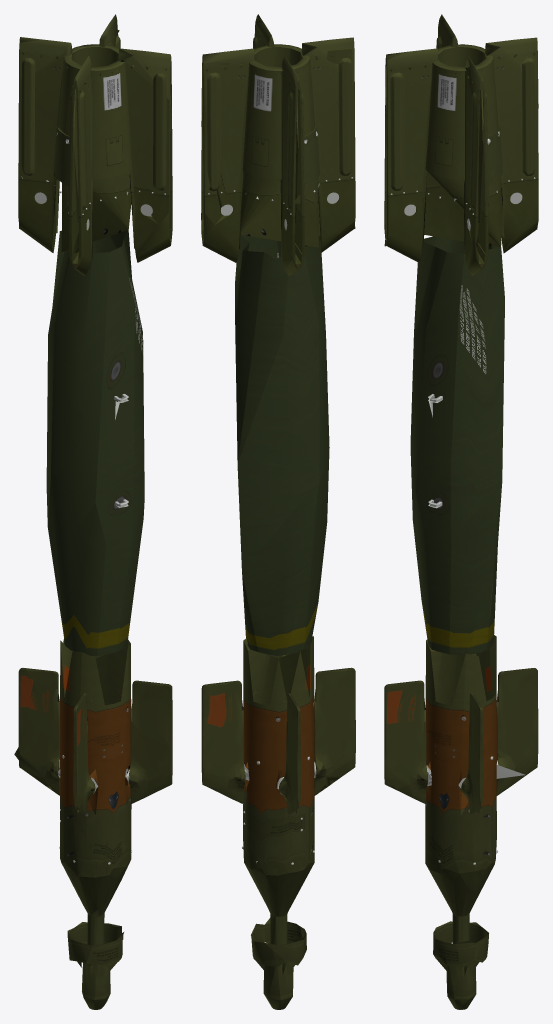
The model's file is GBU-12-reduced.obj.
3 views of the same model, side by side, from view 1: azimuth 30°, elevation 25°; view 2: azimuth 150°, elevation 25°; view 3: azimuth 330°, elevation 25° (orthographic).
Visible parts, largest first — view 1: Warhead, Rear, Computer, Fin2, Fin4, SeekerHead, Fin1, Metal, TailFin03; view 2: Warhead, Rear, Computer, Fin3, Fin1, SeekerHead, Fin4, Metal; view 3: Warhead, Rear, Computer, Fin1, Fin3, SeekerHead, Fin2, Metal, TailFin1.
Part boxes in pixels (left/top/right/bottom): Warhead: left=46, top=230, right=144, bottom=656; Rear: left=18, top=14, right=172, bottom=275; Computer: left=59, top=639, right=131, bottom=945; Fin2: left=128, top=680, right=172, bottom=803; Fin4: left=14, top=668, right=60, bottom=795; SeekerHead: left=67, top=922, right=123, bottom=1009; Fin1: left=73, top=693, right=95, bottom=814; Metal: left=21, top=133, right=165, bottom=864; TailFin03: left=72, top=86, right=78, bottom=222; Warhead: left=235, top=235, right=329, bottom=655; Rear: left=201, top=14, right=355, bottom=275; Computer: left=243, top=636, right=314, bottom=944; Fin3: left=201, top=680, right=245, bottom=803; Fin1: left=314, top=667, right=355, bottom=795; SeekerHead: left=251, top=918, right=306, bottom=1009; Fin4: left=279, top=693, right=302, bottom=814; Metal: left=208, top=131, right=352, bottom=864; Warhead: left=410, top=236, right=504, bottom=655; Rear: left=384, top=14, right=538, bottom=275; Computer: left=425, top=635, right=496, bottom=943; Fin1: left=384, top=680, right=427, bottom=803; Fin3: left=496, top=668, right=538, bottom=795; SeekerHead: left=433, top=921, right=488, bottom=1009; Fin2: left=461, top=693, right=483, bottom=814; Metal: left=390, top=131, right=535, bottom=864; TailFin1: left=478, top=89, right=483, bottom=222.
Bounding box in the file's own units: 0.2492 × 2.19 × 0.248.
Materials: 9 (5 with a texture image).
